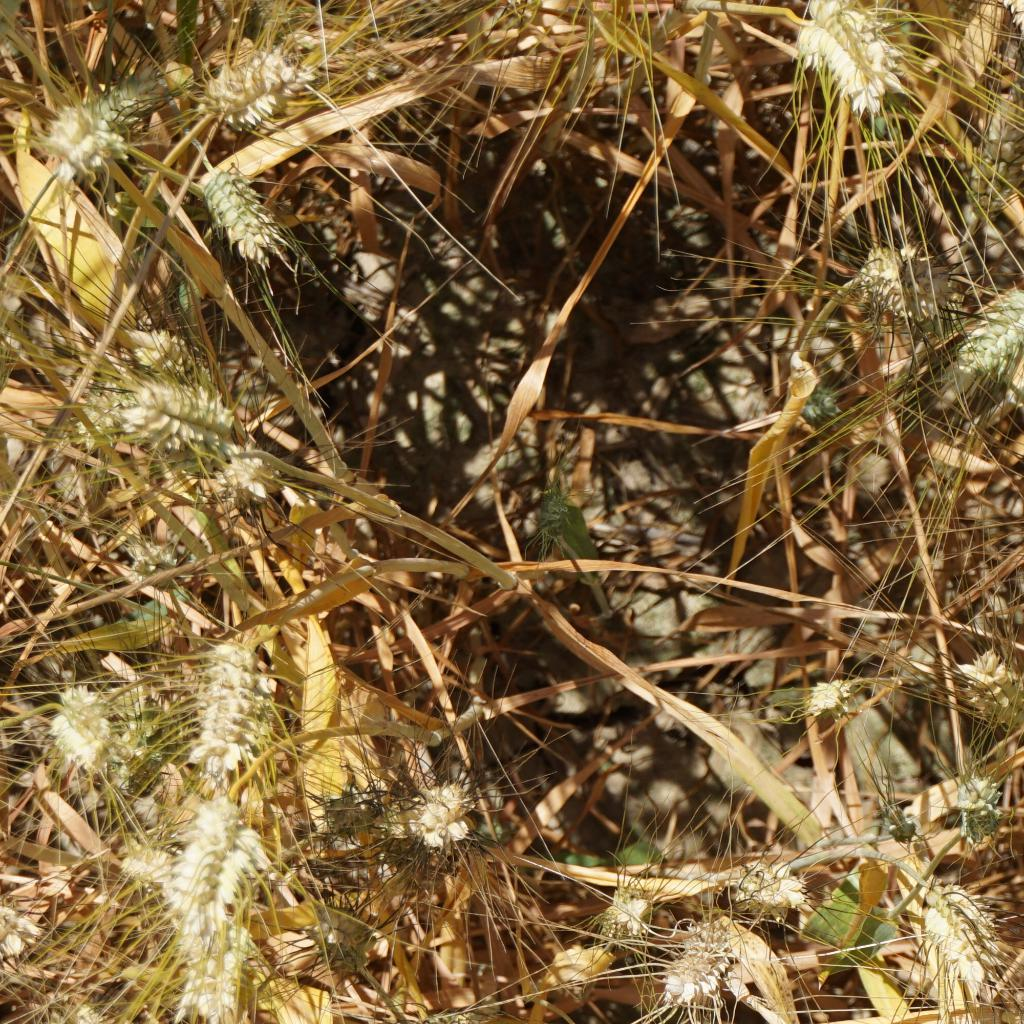0-0: (777, 0, 897, 113), (177, 629, 266, 757), (844, 245, 968, 336), (908, 873, 1004, 986), (174, 788, 252, 923), (193, 164, 284, 266), (289, 886, 379, 987), (945, 105, 1024, 214), (128, 367, 243, 441), (954, 278, 1024, 391), (662, 916, 739, 1009), (387, 772, 475, 850), (41, 680, 111, 774), (185, 924, 252, 1022), (195, 49, 294, 113), (94, 55, 180, 128), (726, 850, 814, 921), (956, 647, 1024, 736), (31, 96, 118, 165), (116, 528, 186, 605), (124, 316, 210, 376), (948, 761, 1010, 843), (182, 442, 276, 495), (314, 774, 374, 852), (63, 370, 121, 439), (794, 668, 863, 724), (114, 841, 191, 891), (533, 481, 580, 546), (785, 385, 847, 430), (596, 888, 647, 942), (30, 987, 96, 1024), (0, 885, 27, 951), (0, 0, 28, 54)
